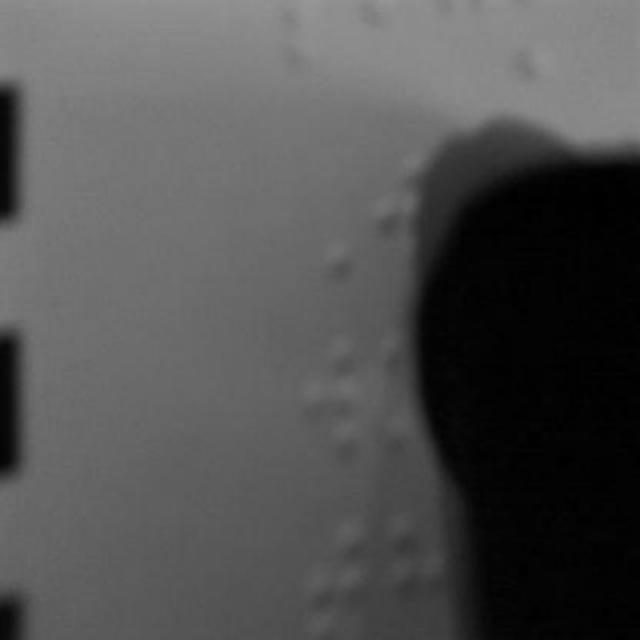braiile: (310, 498, 374, 640), (312, 321, 372, 451)
